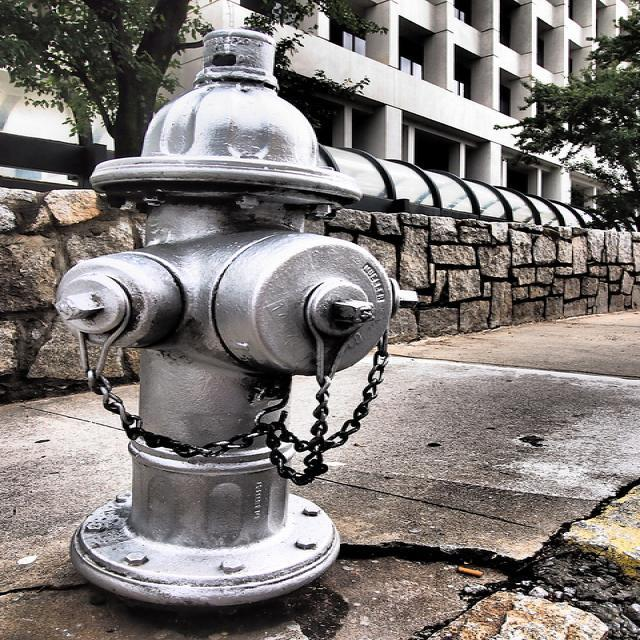fire_hydrant: (47, 27, 404, 609)
